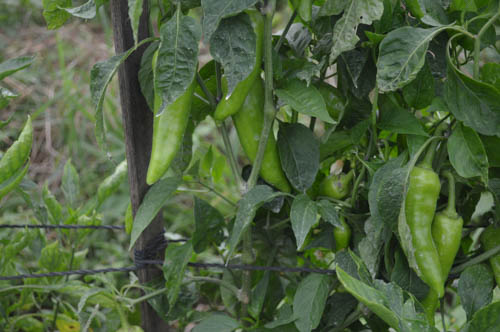ChiliPepper: (149, 42, 194, 185), (231, 78, 287, 190), (402, 169, 444, 299), (210, 26, 264, 126), (422, 211, 461, 326)
